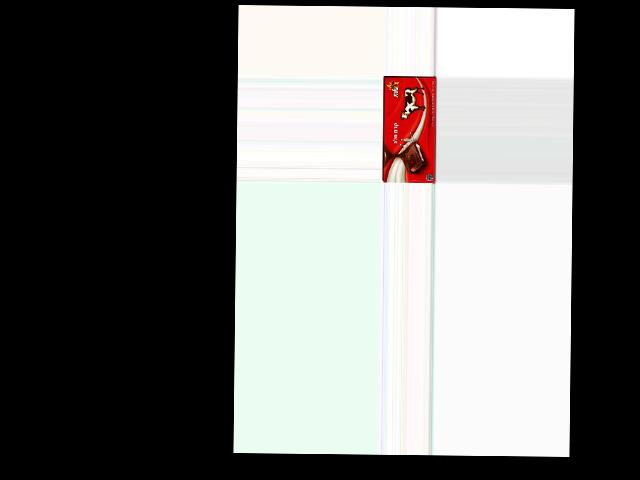chocolate: (382, 74, 437, 182)
